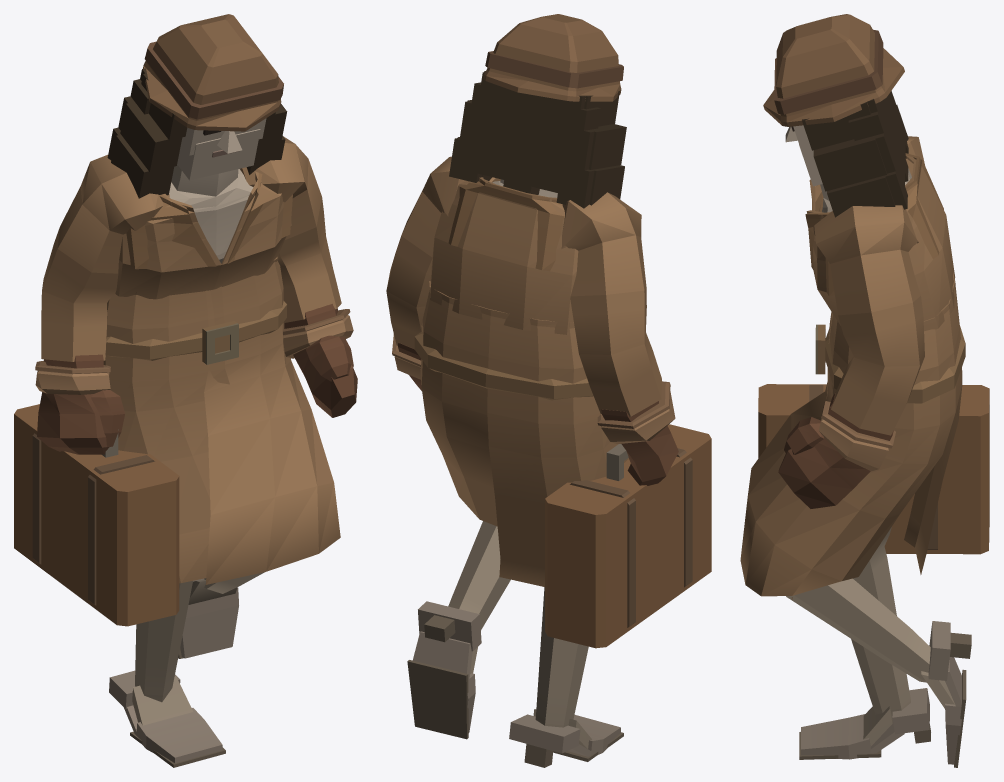
File: passenger-ac425a__walk6.glb
3 renders of one model, left to right at view 1: azimuth 30°, elevation 25°; view 2: azimuth 150°, elevation 25°; view 3: azimuth 270°, elevation 25°, orthographic. The views are drawn at different scales.
Parts seen in each view (by area): view 1: passenger-ac425a__walk6; view 2: passenger-ac425a__walk6; view 3: passenger-ac425a__walk6.
Part boxes in pixels (left/top/right/bottom): passenger-ac425a__walk6: left=14, top=14, right=357, bottom=767; passenger-ac425a__walk6: left=386, top=14, right=711, bottom=767; passenger-ac425a__walk6: left=740, top=14, right=989, bottom=767.
Bounding box in the file's own units: 0.7608 × 1.77 × 0.5395.
